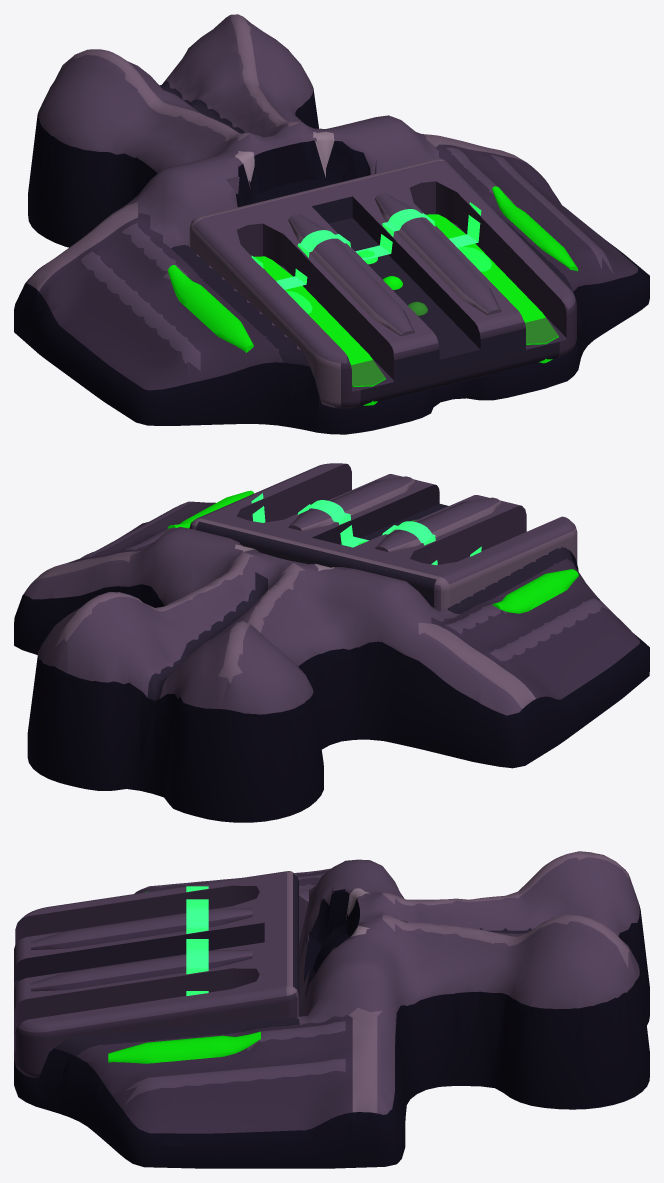
Rendered from purple_beacon_5.glb.
3 renders of one model, top to bottom at view 1: azimuth 30°, elevation 25°; view 2: azimuth 150°, elevation 25°; view 3: azimuth 270°, elevation 25°, orthographic. The views are drawn at different scales.
Parts seen in each view (by area): view 1: body, block, ridge-1, ridge1, floor-1, strip1, bar, floor1, strip-1; view 2: body, block, ridge-1, ridge1, strip1, bar, strip-1; view 3: body, block, ridge-1, ridge1, strip-1, bar.
Boxes of the visible parts, bbox=[...] form: body: bbox=[14, 14, 649, 434]; block: bbox=[189, 158, 576, 408]; ridge-1: bbox=[288, 214, 414, 336]; ridge1: bbox=[375, 193, 501, 315]; floor-1: bbox=[254, 256, 385, 405]; strip1: bbox=[168, 265, 253, 352]; bar: bbox=[251, 202, 481, 289]; floor1: bbox=[426, 214, 558, 363]; strip-1: bbox=[492, 186, 578, 271]; body: bbox=[14, 501, 649, 822]; block: bbox=[189, 463, 577, 611]; ridge-1: bbox=[375, 497, 501, 552]; ridge1: bbox=[288, 476, 414, 530]; strip1: bbox=[492, 569, 578, 613]; bar: bbox=[251, 493, 481, 565]; strip-1: bbox=[167, 490, 253, 528]; body: bbox=[14, 851, 649, 1168]; block: bbox=[14, 871, 298, 1077]; ridge-1: bbox=[31, 908, 252, 949]; ridge1: bbox=[31, 949, 252, 991]; strip-1: bbox=[108, 1031, 260, 1063]; bar: bbox=[186, 886, 208, 995].
Bounding box in the file's own units: 24 × 7.25 × 26.
